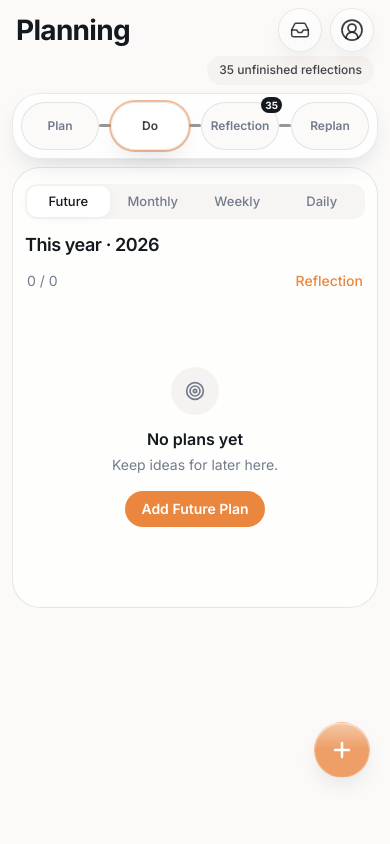
Test: Do period › keeps Do selected under the Planning header and opens a date popup
The width and height of the screenshot is (390, 844).
Expected: the heading "Planning" is shown, [16, 12, 130, 48]
Click the tab "Daily" at (322, 201), box [280, 186, 363, 217]
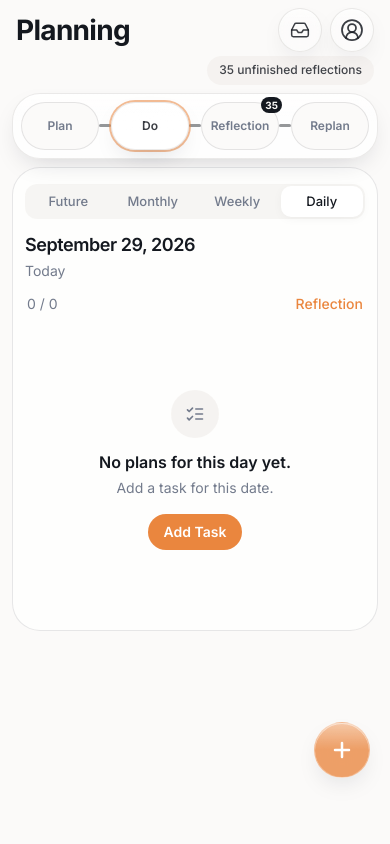
Click the button with test id "period-trigger" at (110, 256), box [25, 231, 195, 281]
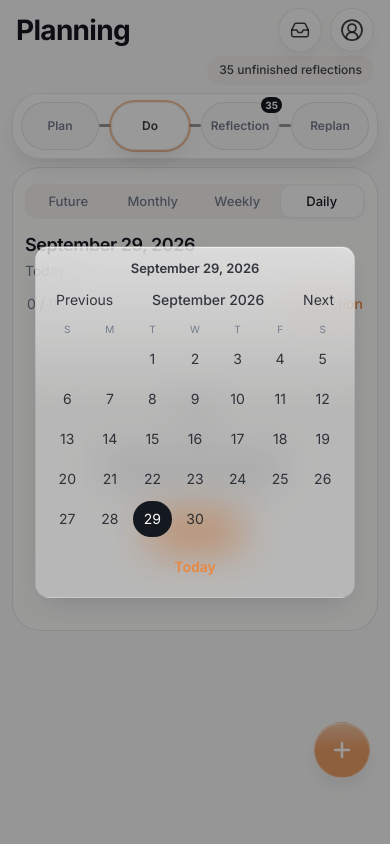
Result: the button "29" is shown at [133, 501, 172, 537]
Result: the button "Today" is shown at [48, 549, 342, 585]
